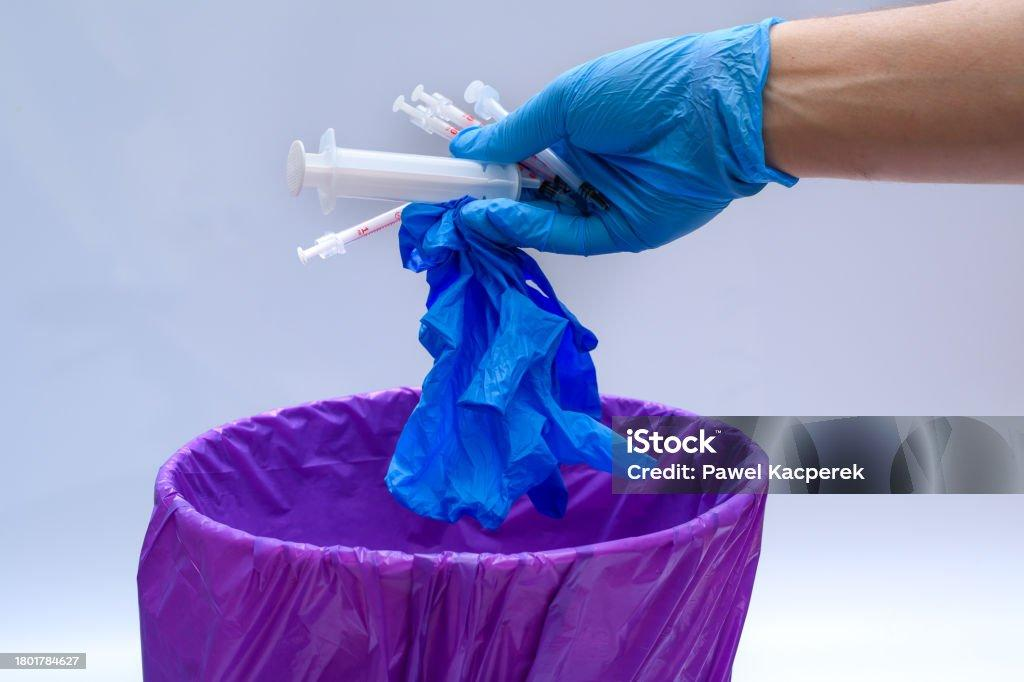Glove: (451, 19, 796, 254)
Syringe: (287, 129, 540, 212), (297, 204, 407, 263), (535, 149, 609, 208), (392, 95, 479, 139), (412, 84, 480, 129)
